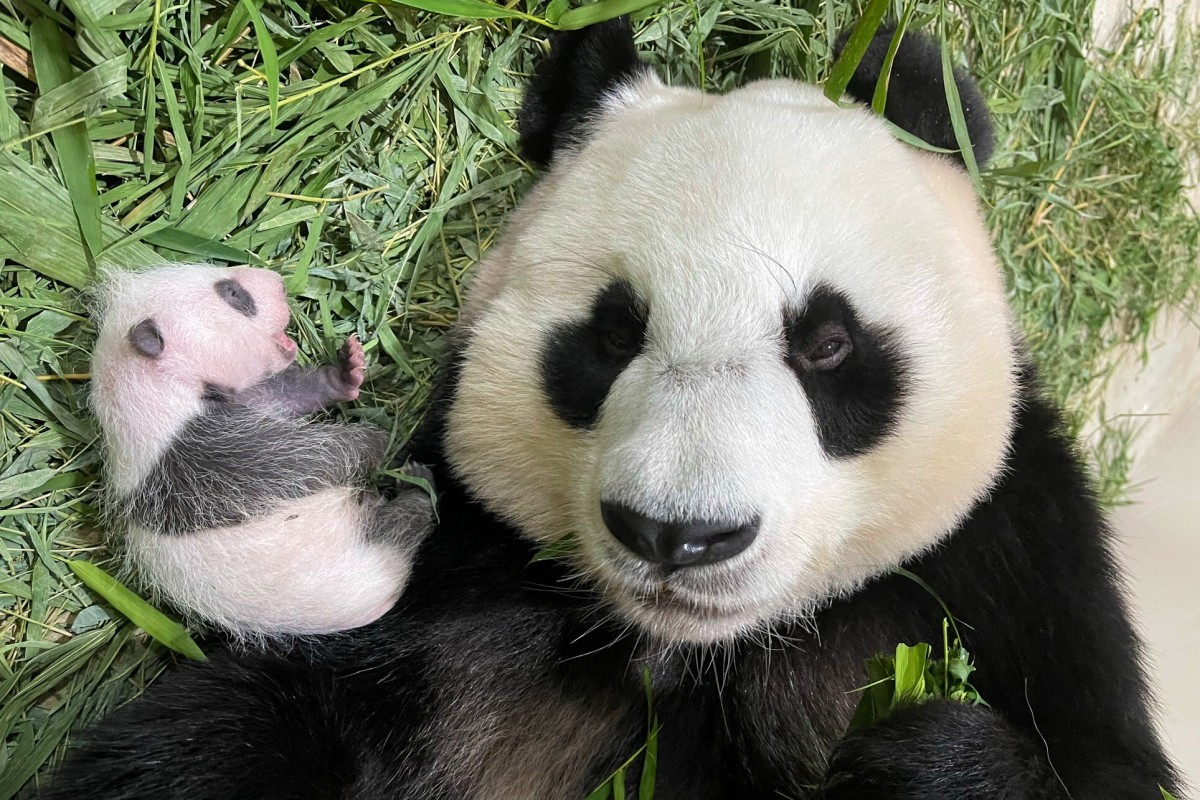panda: (422, 23, 1049, 738)
